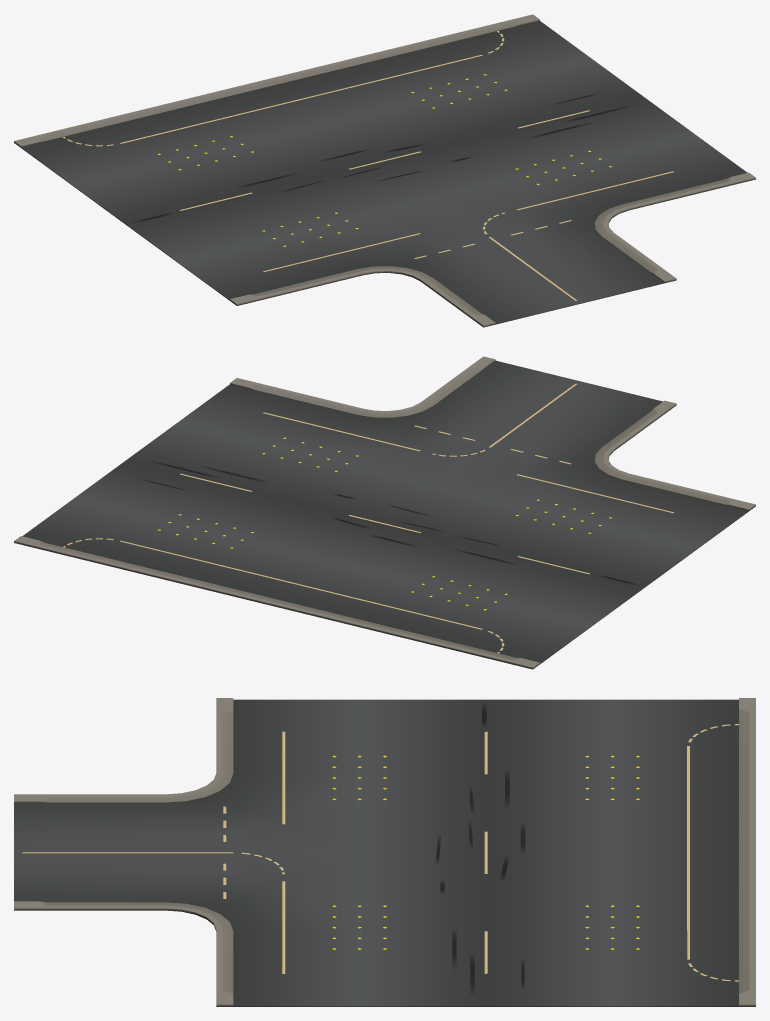
File: Runway_1F.fbx
The picture shows the model from 3 angles, top to bottom: view 1: azimuth 30°, elevation 25°; view 2: azimuth 150°, elevation 25°; view 3: azimuth 270°, elevation 25°; orthographic projection. The views are drawn at different scales.
Parts seen in each view (by area): view 1: Runway_1F; view 2: Runway_1F; view 3: Runway_1F.
Part boxes in pixels (box(x1,y1,x2,y2)): Runway_1F: box(14, 14, 755, 327); Runway_1F: box(14, 356, 755, 669); Runway_1F: box(14, 698, 755, 1006).
Size of the model in its own units: 8600 by 30 by 8800.
